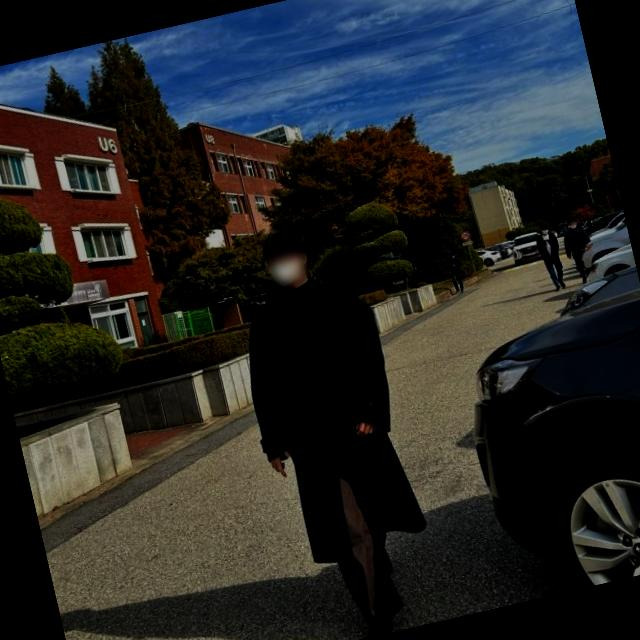coat: (226, 271, 430, 574)
cottonpants: (304, 414, 407, 629)
